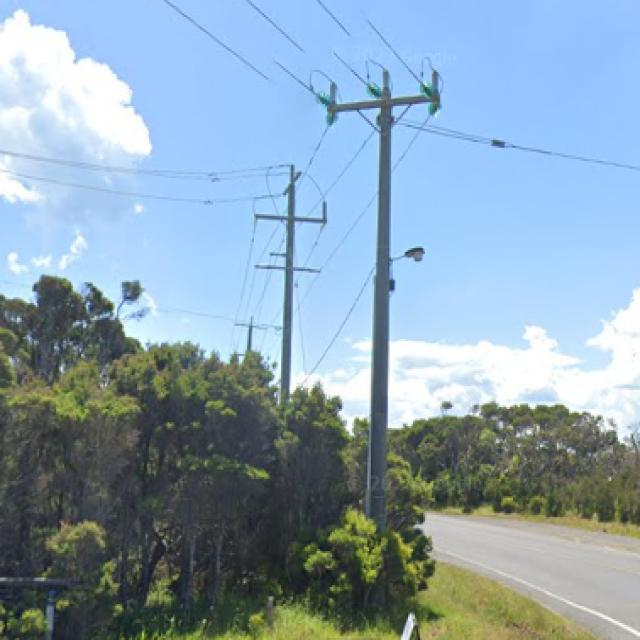HV-transmission: (315, 68, 442, 127), (254, 163, 328, 224)
crossarm: (329, 93, 439, 113), (254, 213, 328, 226), (256, 264, 324, 274), (235, 323, 263, 330)
streetlight: (389, 245, 427, 264)
timber-pole: (367, 68, 393, 530), (280, 165, 295, 403), (246, 317, 254, 355)
